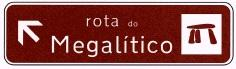direcao de rota: (10, 8, 233, 65)
